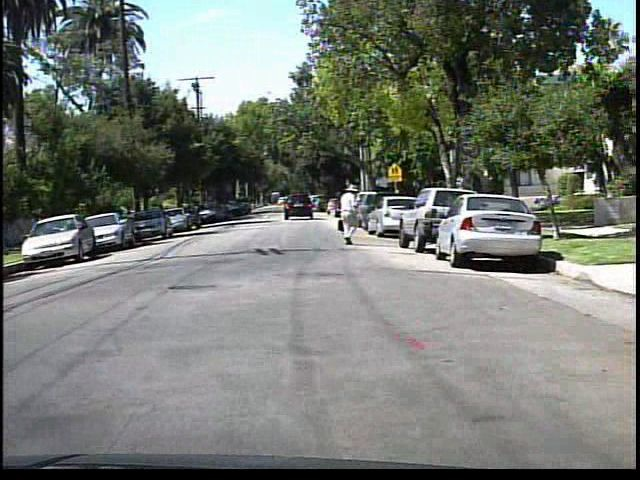person: (335, 183, 367, 244)
